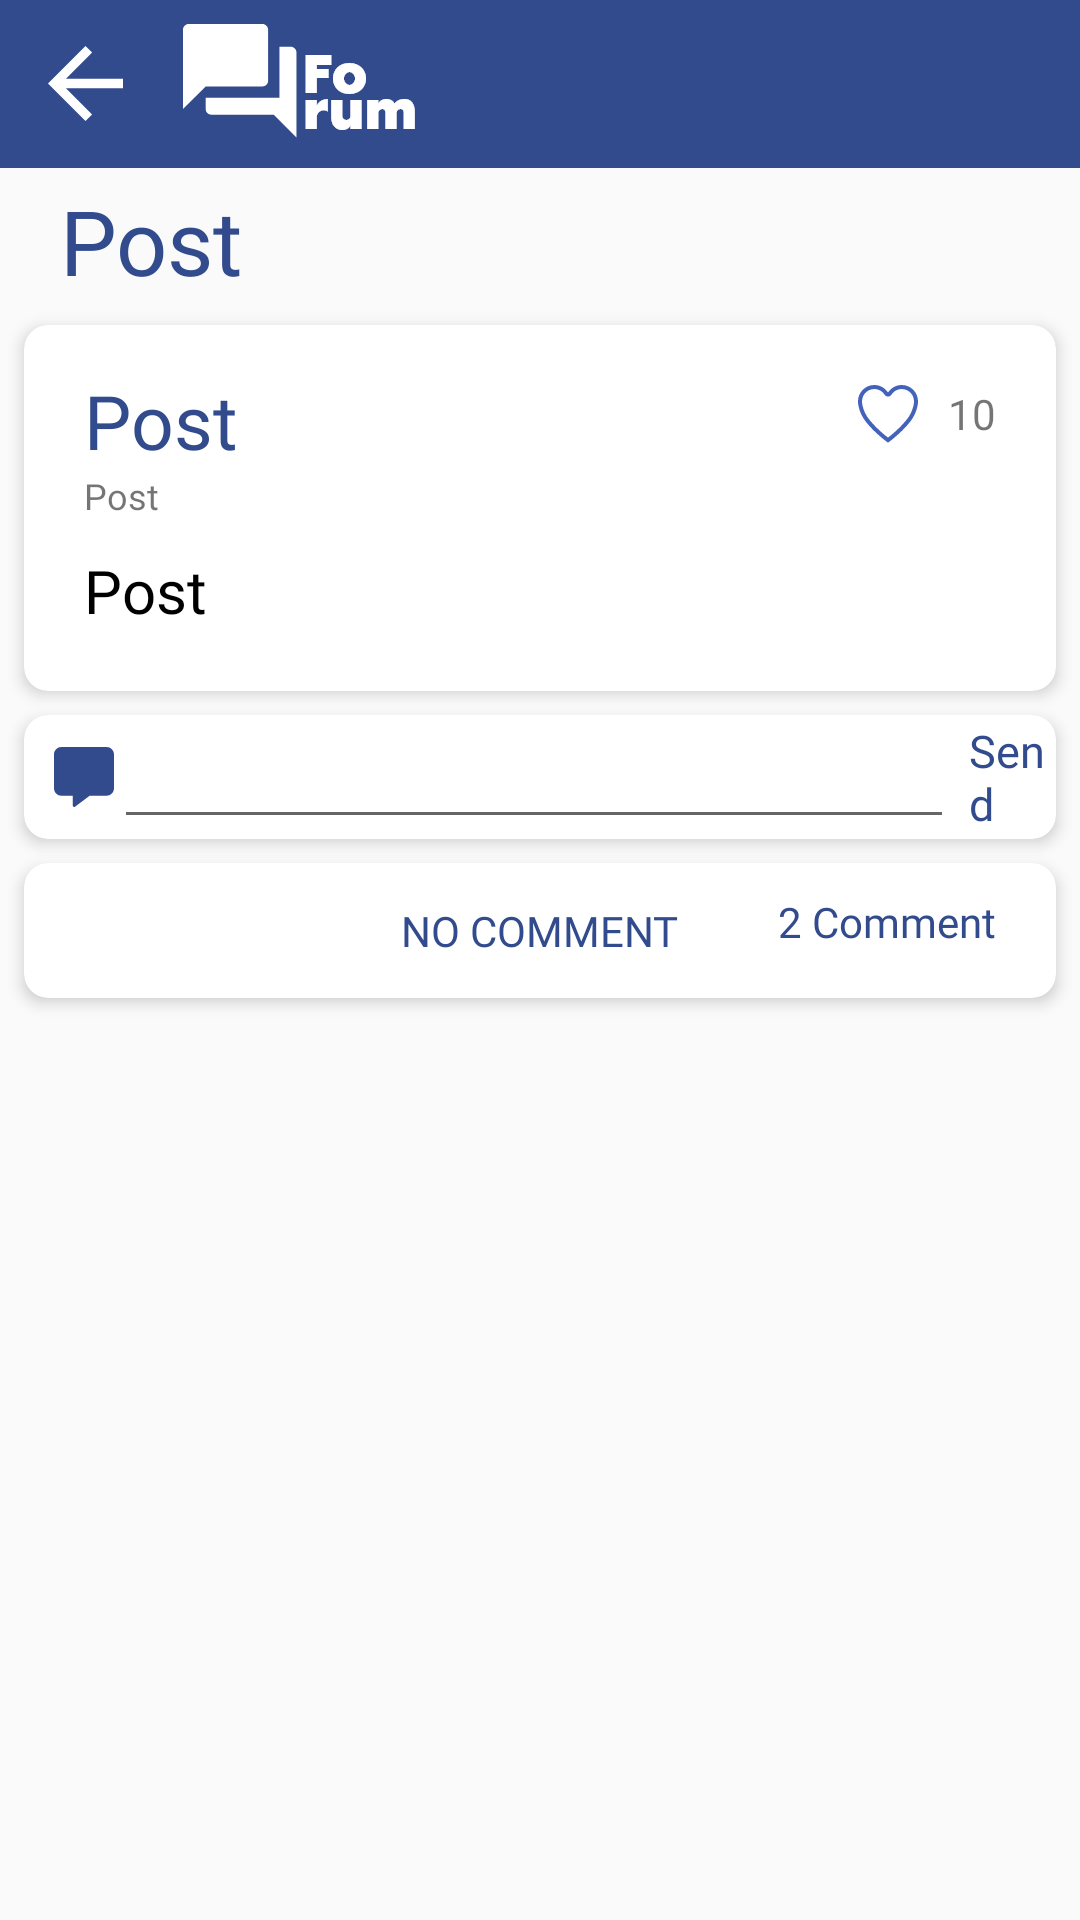

Icon click points for this 1080 x 1920 phone screenshot, format (x=x, y=y):
back: (x=85, y=83)
heart empty: (x=888, y=414)
